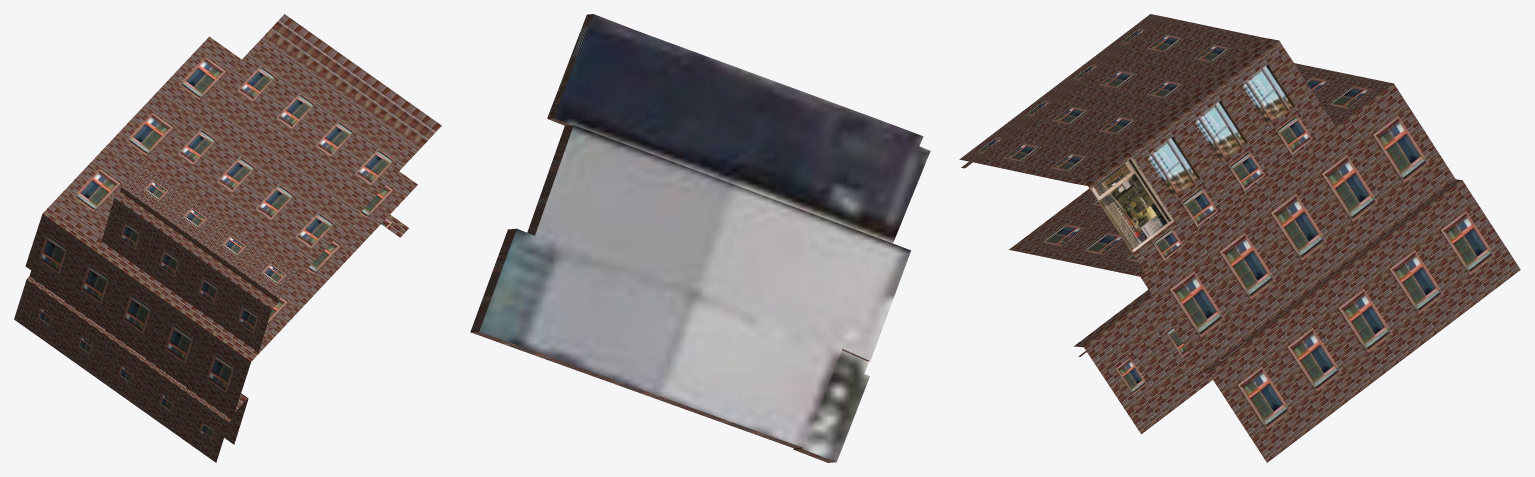
The picture shows the model from 3 angles, left to right: view 1: azimuth 30°, elevation 25°; view 2: azimuth 150°, elevation 25°; view 3: azimuth 270°, elevation 25°; orthographic projection. The views are drawn at different scales.
Size of the model in its own units: 26.48 by 26.8 by 29.
13 materials, 13 textured.
